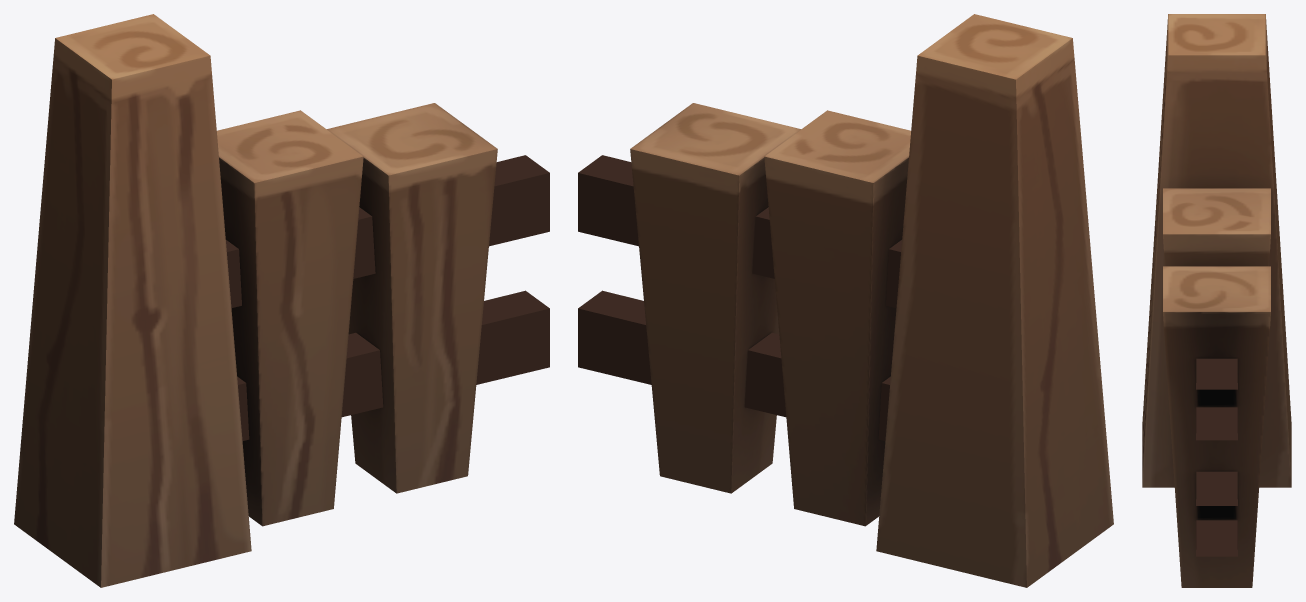
The model's file is fence_tile_04.fbx.
3 renders of one model, left to right at view 1: azimuth 30°, elevation 25°; view 2: azimuth 150°, elevation 25°; view 3: azimuth 270°, elevation 25°, orthographic. The views are drawn at different scales.
Parts seen in each view (by area): view 1: fence_tile_04; view 2: fence_tile_04; view 3: fence_tile_04.
Part boxes in pixels (x1,y1,x2,y2): fence_tile_04: (14,14,549,587); fence_tile_04: (578,14,1113,587); fence_tile_04: (1142,14,1291,587).
Bounding box in the file's own units: 2.19 × 2.14 × 0.6859.
